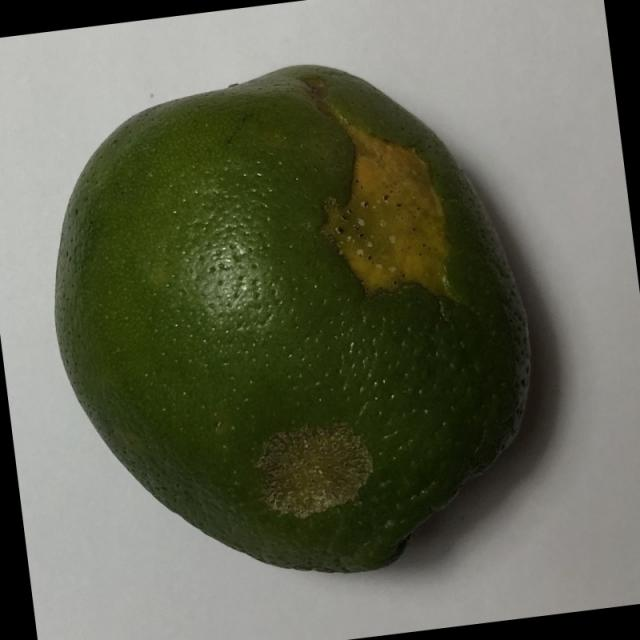canker: (46, 48, 573, 588)
